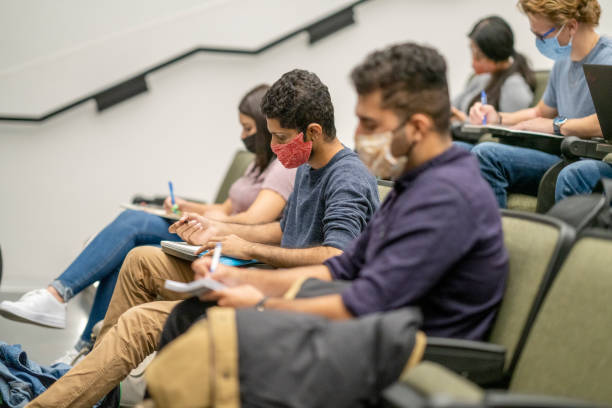with mask: (347, 83, 419, 184), (463, 19, 515, 81), (528, 1, 580, 62), (269, 108, 315, 172), (231, 101, 270, 158)
